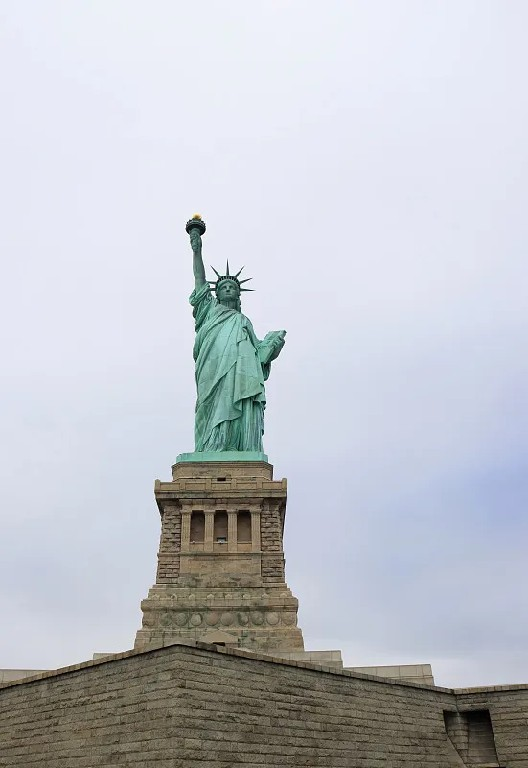SL: (134, 215, 305, 649)
